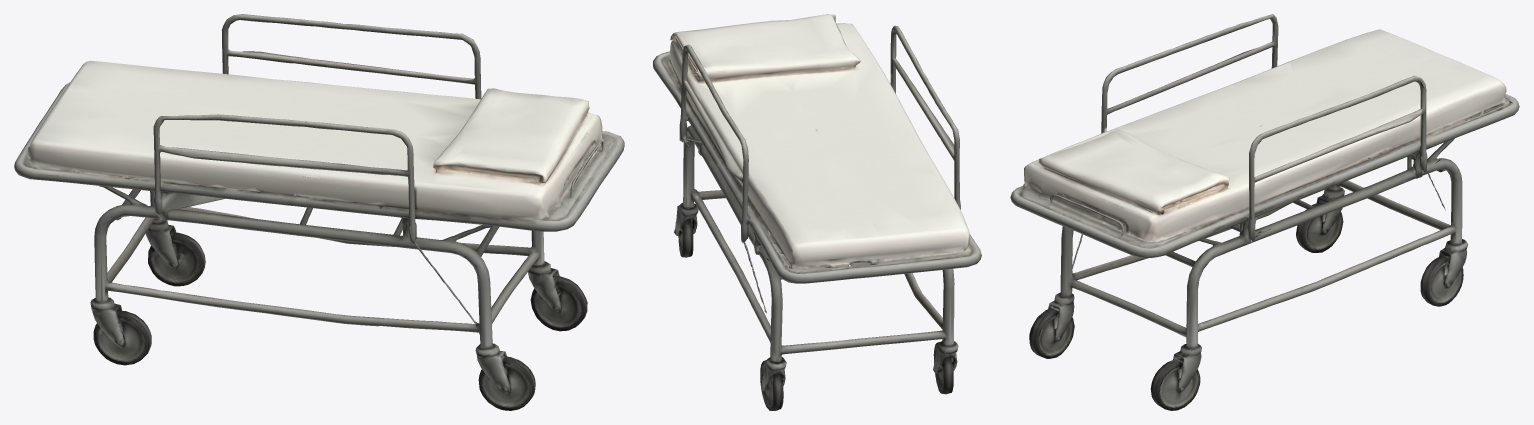
The model's file is repaired.glb.
3 renders of one model, left to right at view 1: azimuth 30°, elevation 25°; view 2: azimuth 150°, elevation 25°; view 3: azimuth 270°, elevation 25°, orthographic. The views are drawn at different scales.
Parts seen in each view (by area): view 1: repaired; view 2: repaired; view 3: repaired.
Part boxes in pixels (<box>): repaired: <box>14,14,624,410</box>; repaired: <box>653,14,981,410</box>; repaired: <box>1010,14,1519,410</box>.
Size of the model in its own units: 0.9991 by 0.5549 by 1.
Materials: 1 (1 with a texture image).
